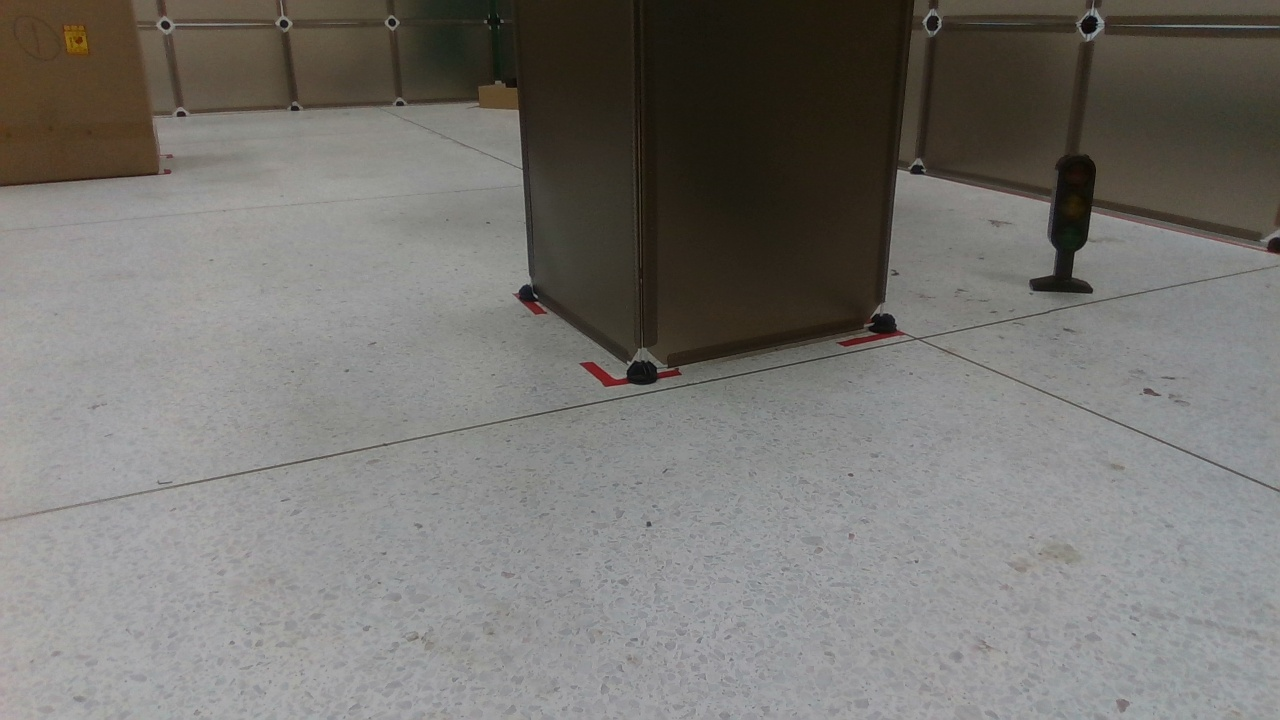Dim traffic light: (1030, 149, 1099, 297)
